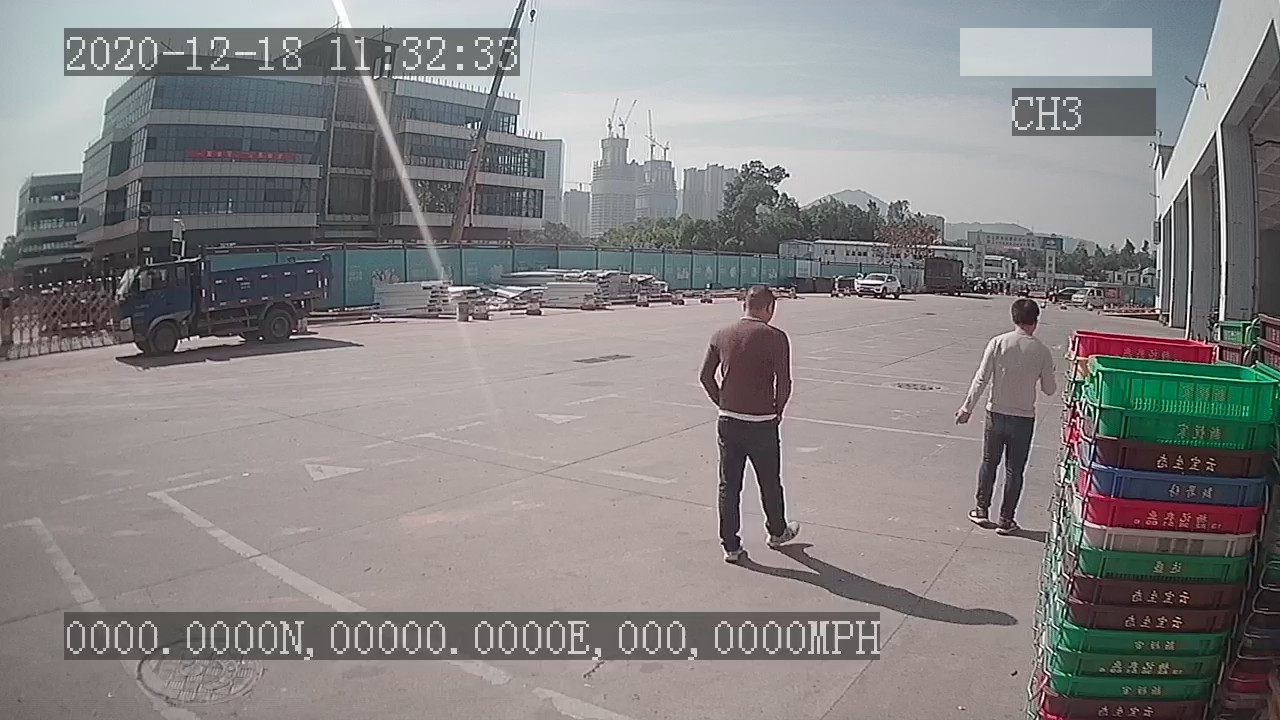person: (697, 279, 805, 565), (956, 295, 1054, 537)
